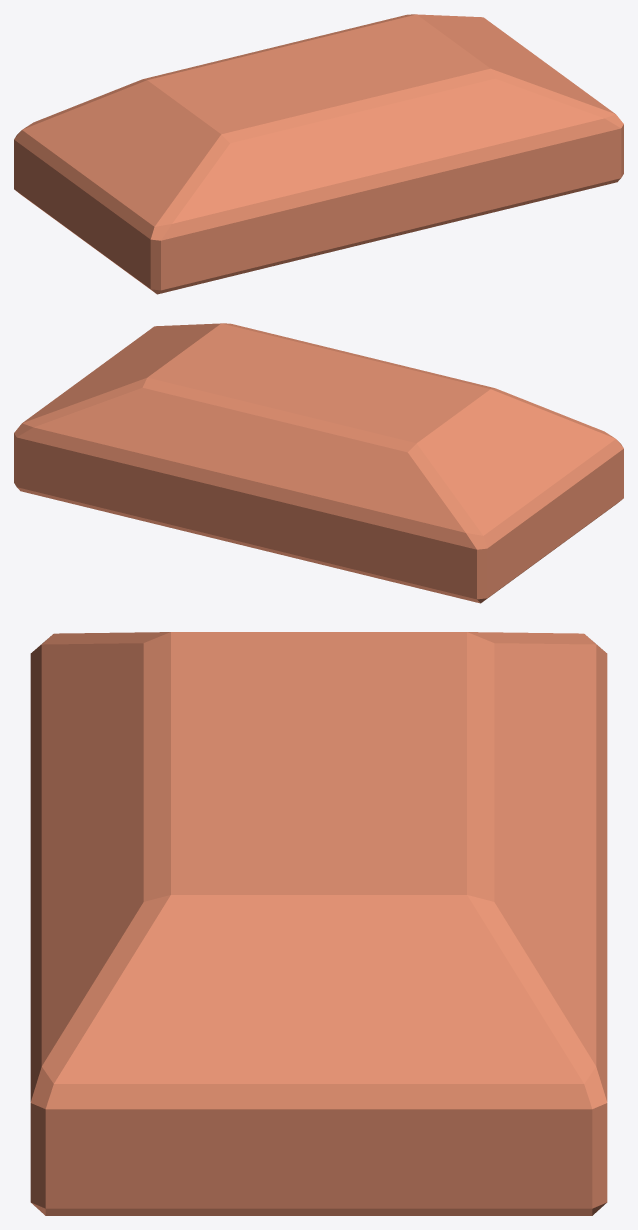
Rendered from CopperIngot.gltf.
The picture shows the model from 3 angles, top to bottom: view 1: azimuth 30°, elevation 25°; view 2: azimuth 150°, elevation 25°; view 3: azimuth 270°, elevation 25°; orthographic projection. The views are drawn at different scales.
Visible parts, largest first — view 1: IronIngot; view 2: IronIngot; view 3: IronIngot.
Boxes of the visible parts, x1,y1,x2,y2 form: IronIngot: (14,14,623,294); IronIngot: (14,323,623,603); IronIngot: (30,632,607,1215).
Bounding box in the file's own units: 0.7258 × 0.167 × 0.383.
